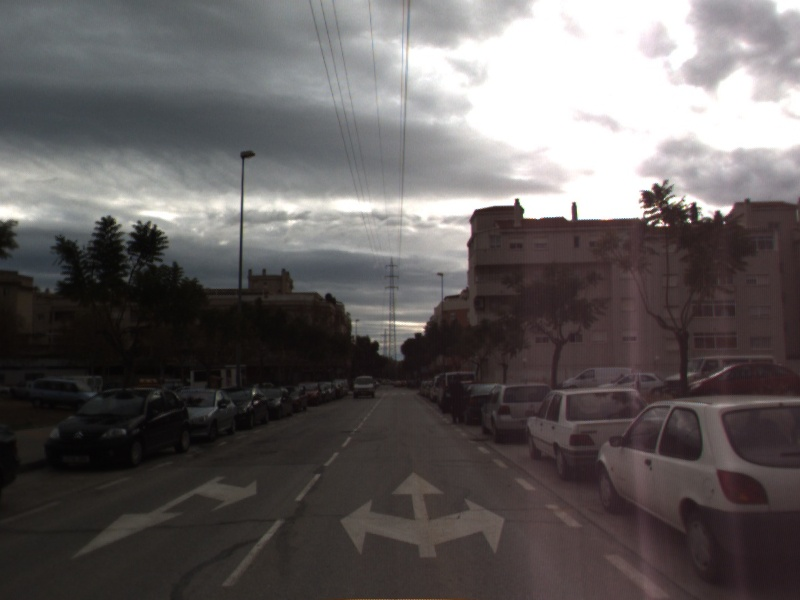STRAIGHT_LEFT_RIGHT: (337, 469, 508, 560)
